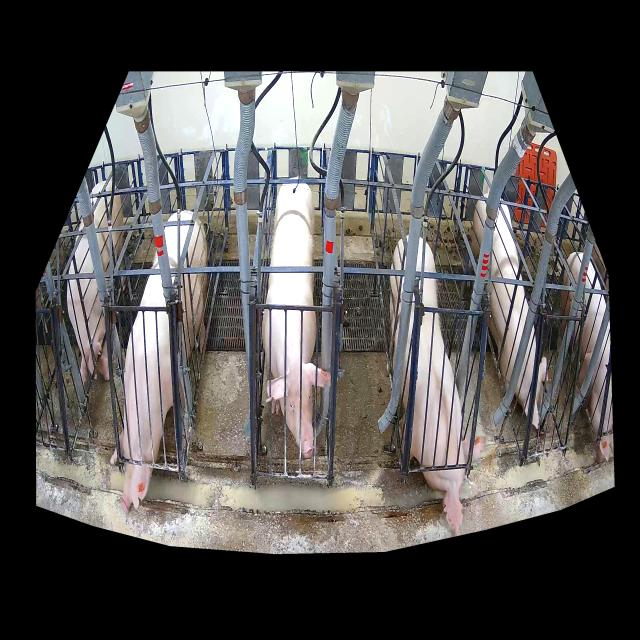pig: (110, 209, 207, 515), (390, 234, 487, 532), (261, 184, 331, 458), (467, 193, 547, 430), (67, 180, 125, 388), (559, 252, 614, 462)
